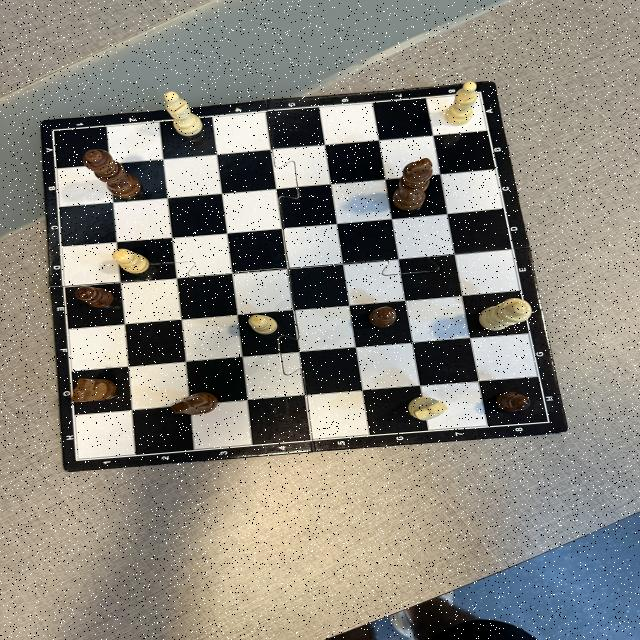Black-King: (392, 158, 432, 212)
Black-Knight: (68, 378, 116, 403), (170, 392, 220, 416)
Black-Pawn: (74, 286, 116, 308), (497, 391, 532, 412), (368, 306, 398, 328)
Black-Queen: (82, 148, 142, 200)
White-Bishop: (164, 91, 204, 136), (444, 80, 478, 126)
White-Knight: (408, 396, 448, 422)
White-Pawn: (112, 248, 151, 274), (248, 315, 278, 335)
White-Queen: (478, 298, 532, 332)
